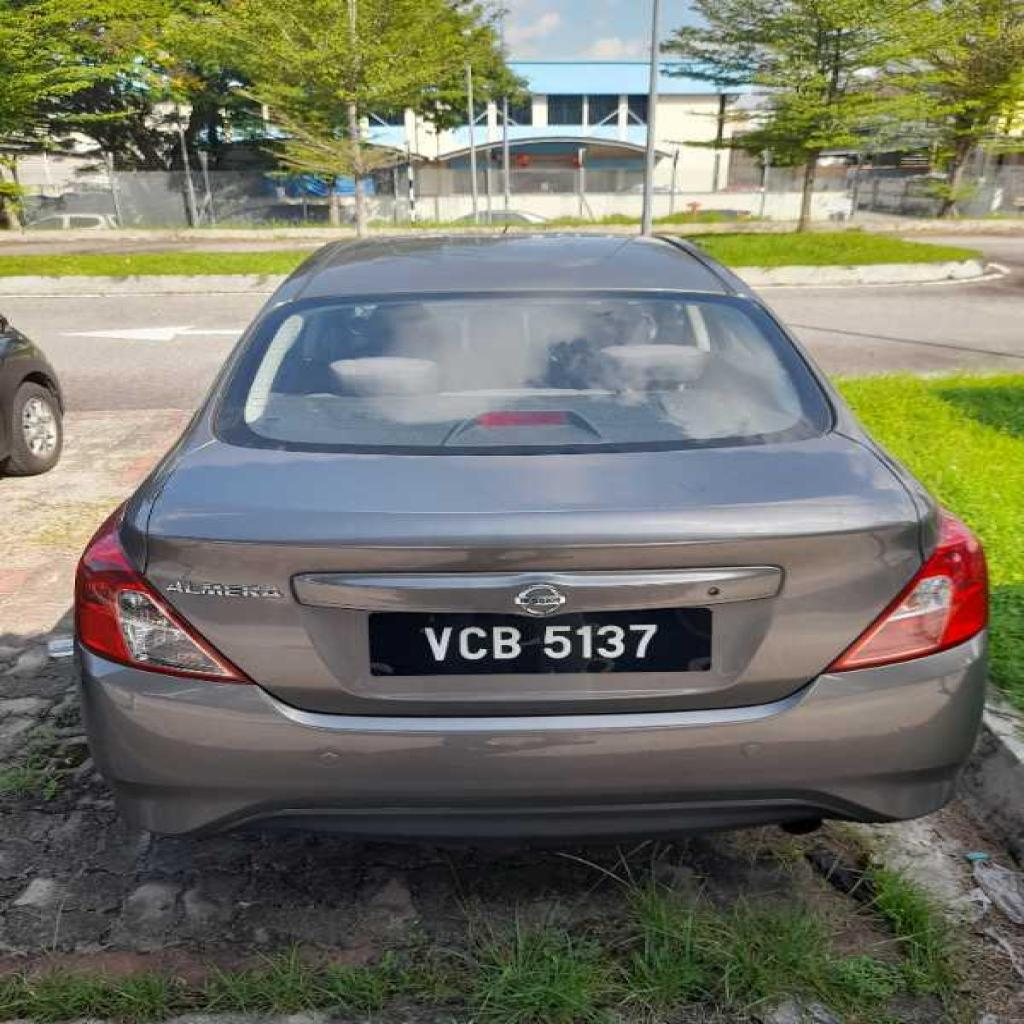car: (77, 234, 985, 836)
car plate: (369, 608, 708, 673)
